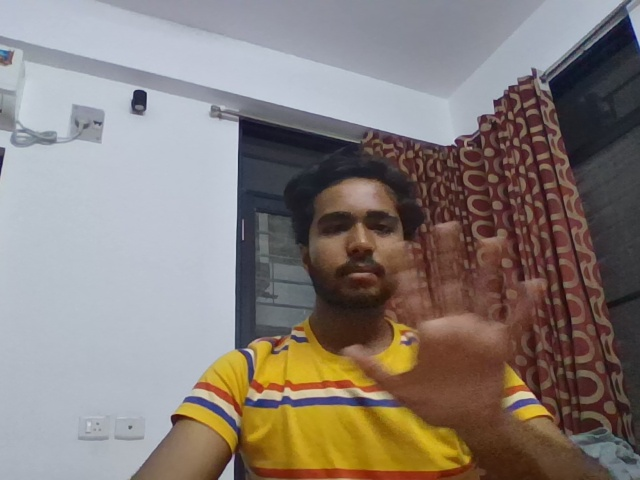Hello: (333, 218, 571, 427)
